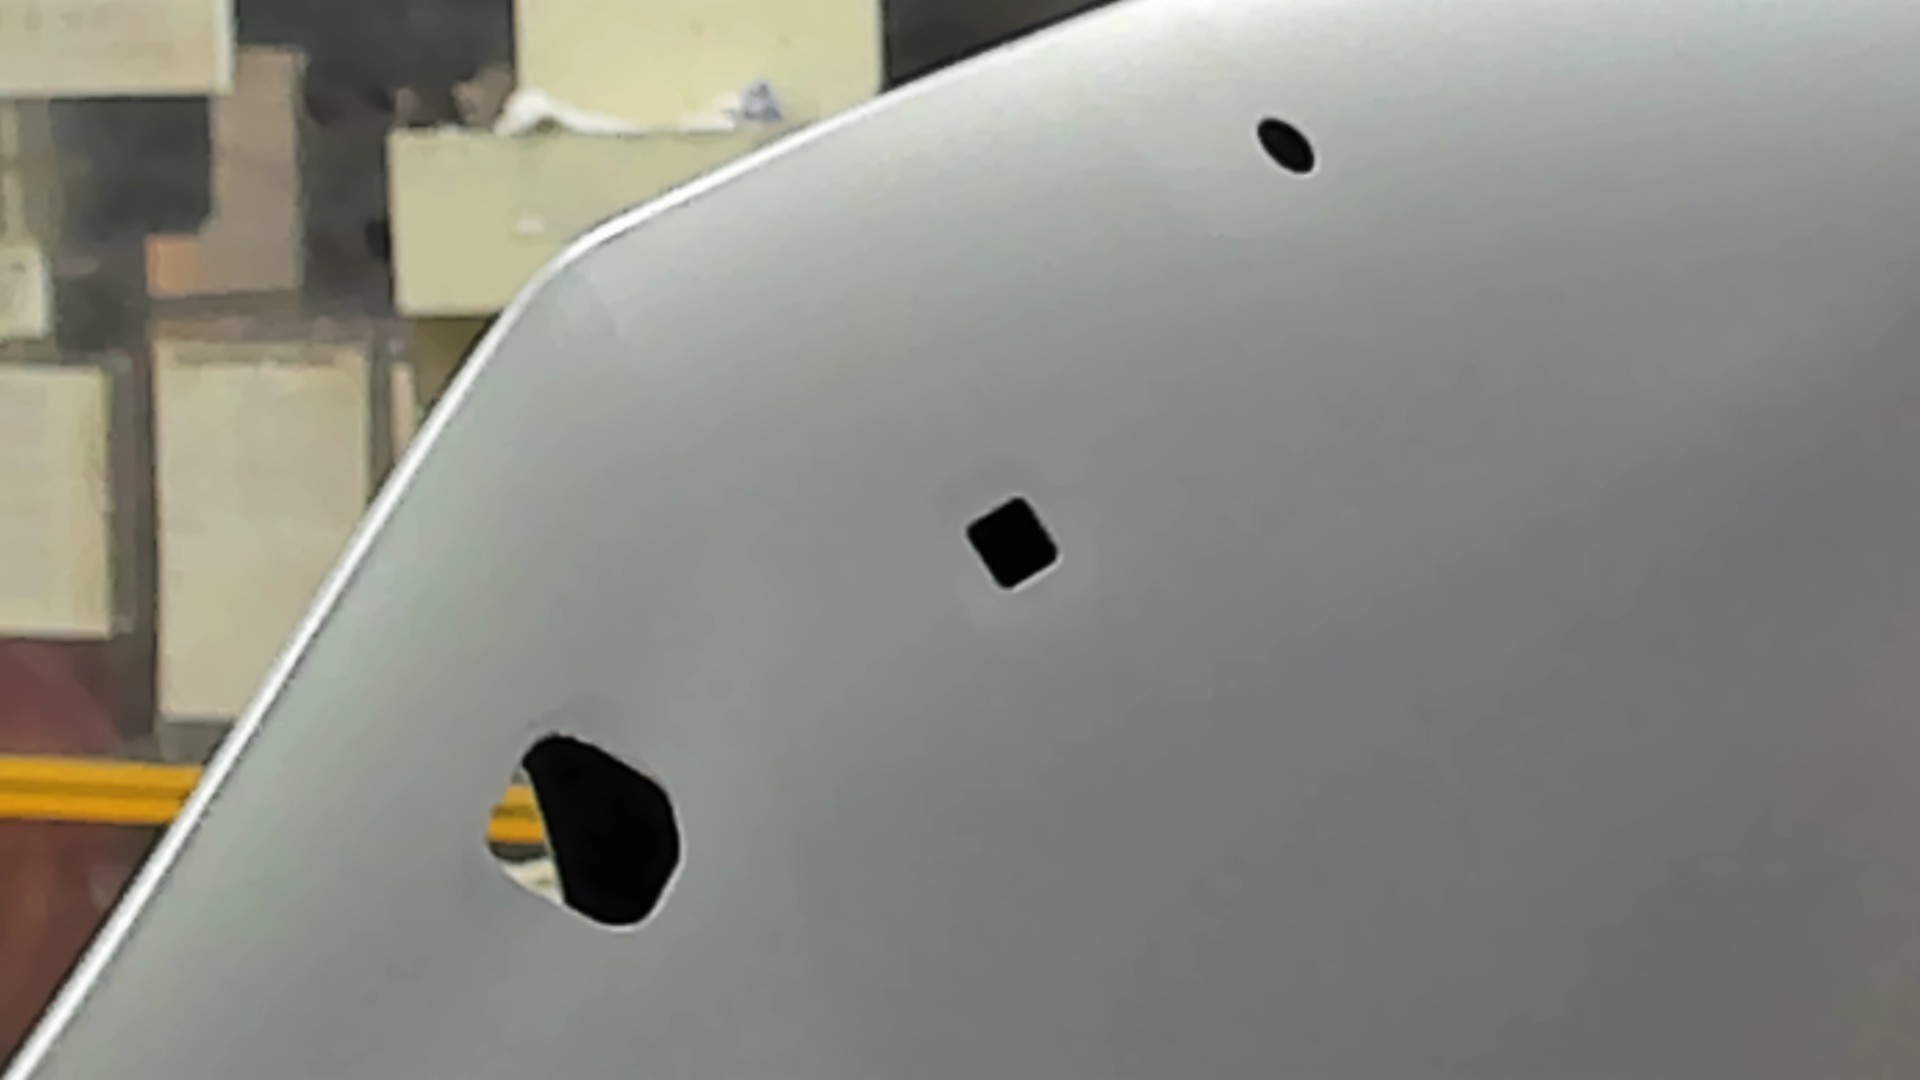chico: (1251, 111, 1320, 182)
grande: (475, 728, 688, 938)
mediano: (961, 495, 1064, 599)
